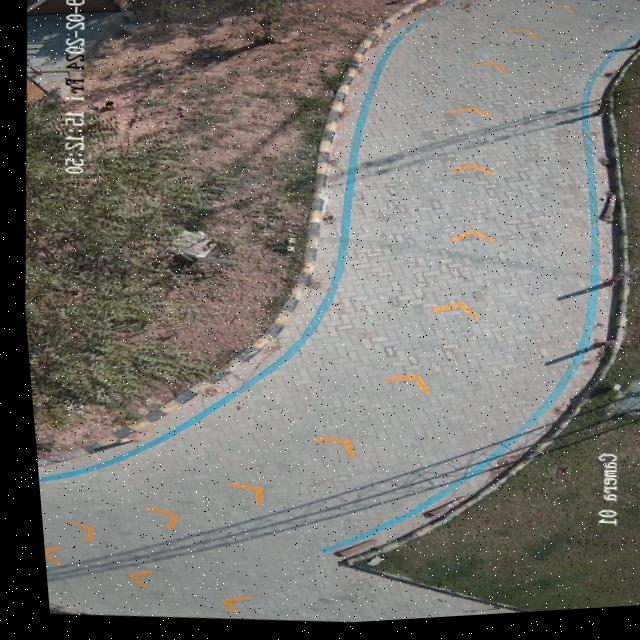No Car: (20, 0, 640, 626)
